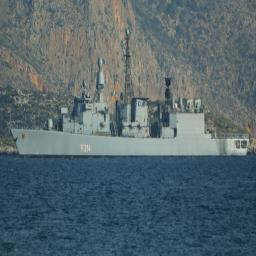Fragata: (10, 28, 252, 161)
